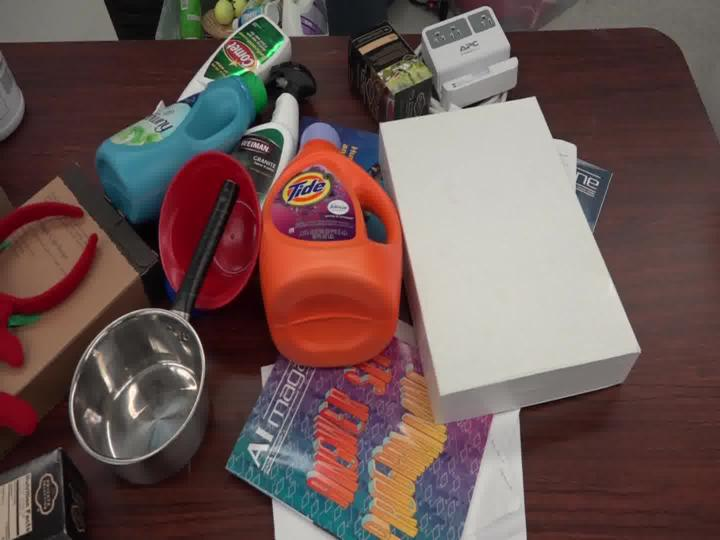tide: (234, 92, 425, 367)
